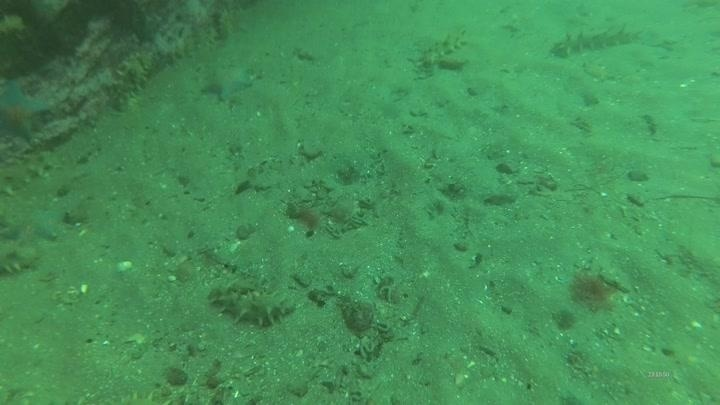holothurian: (205, 279, 299, 330), (547, 20, 641, 60), (0, 145, 68, 199), (105, 45, 157, 113), (414, 25, 472, 68), (0, 235, 43, 279)
starfish: (0, 77, 54, 146), (1, 197, 68, 248), (198, 60, 257, 105)
